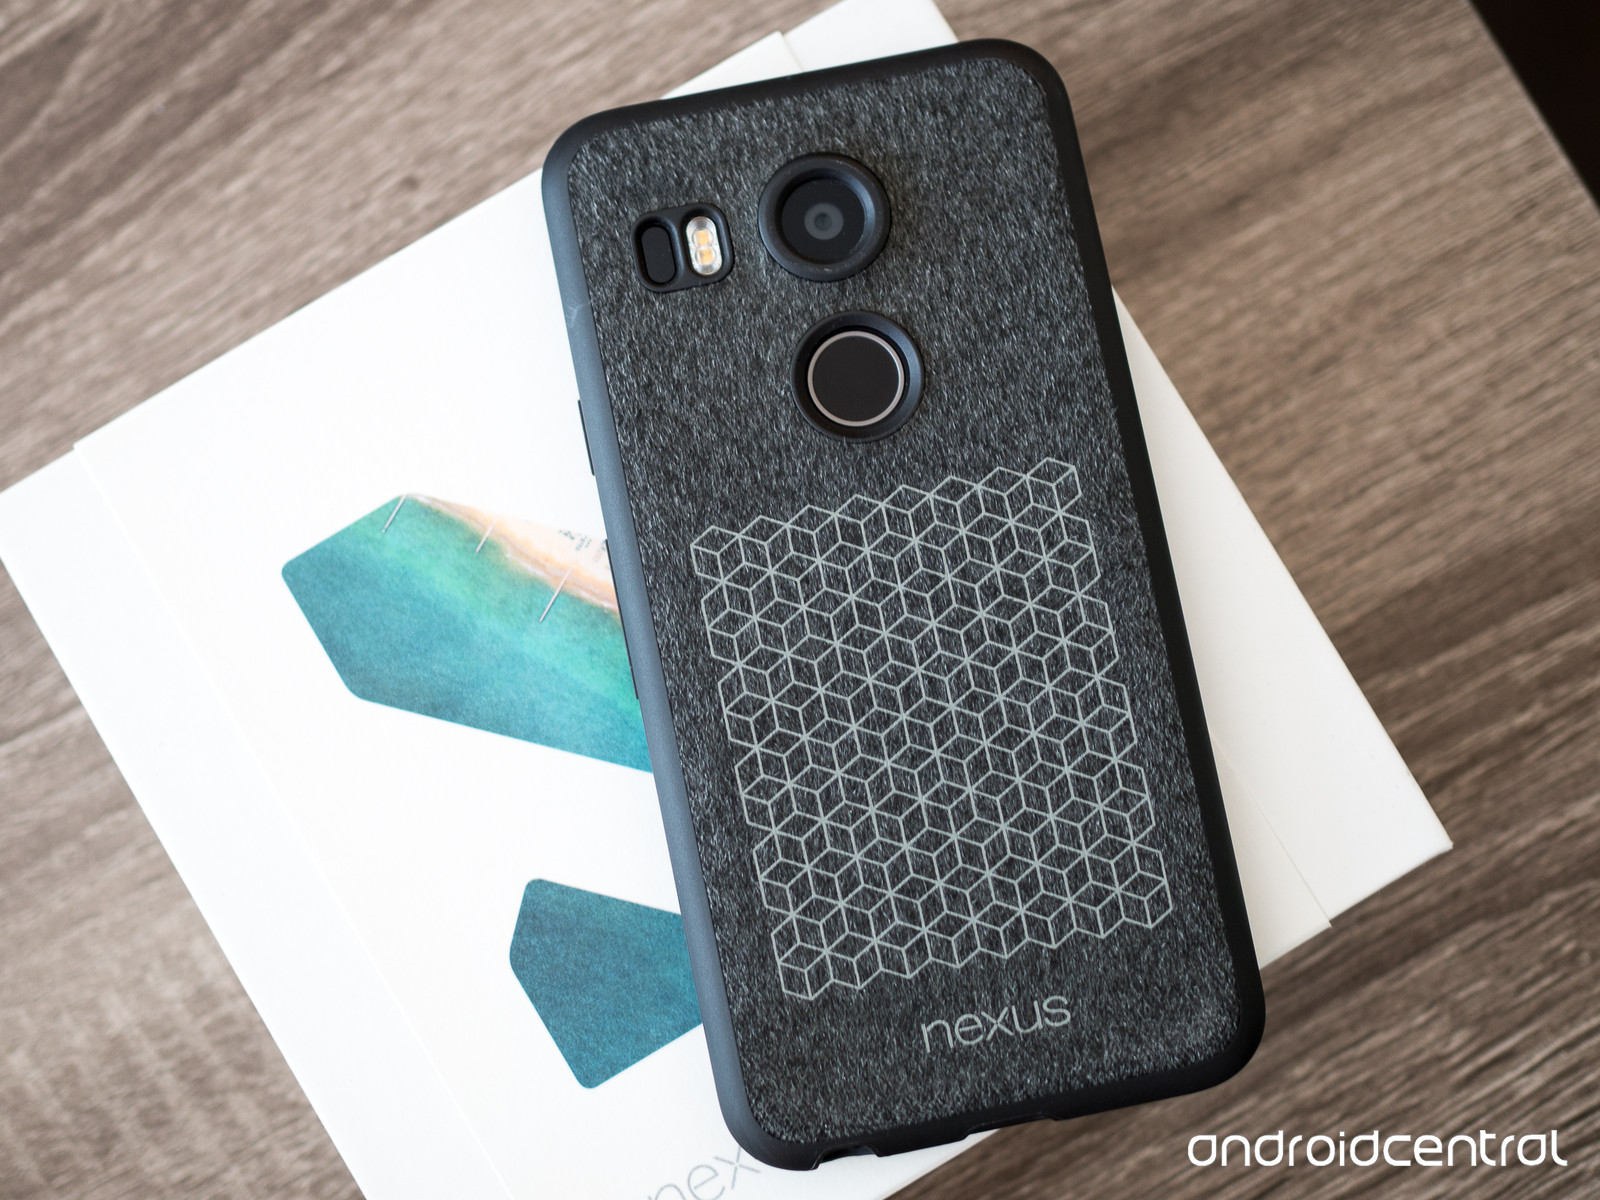smartphone: (542, 40, 1266, 1172)
